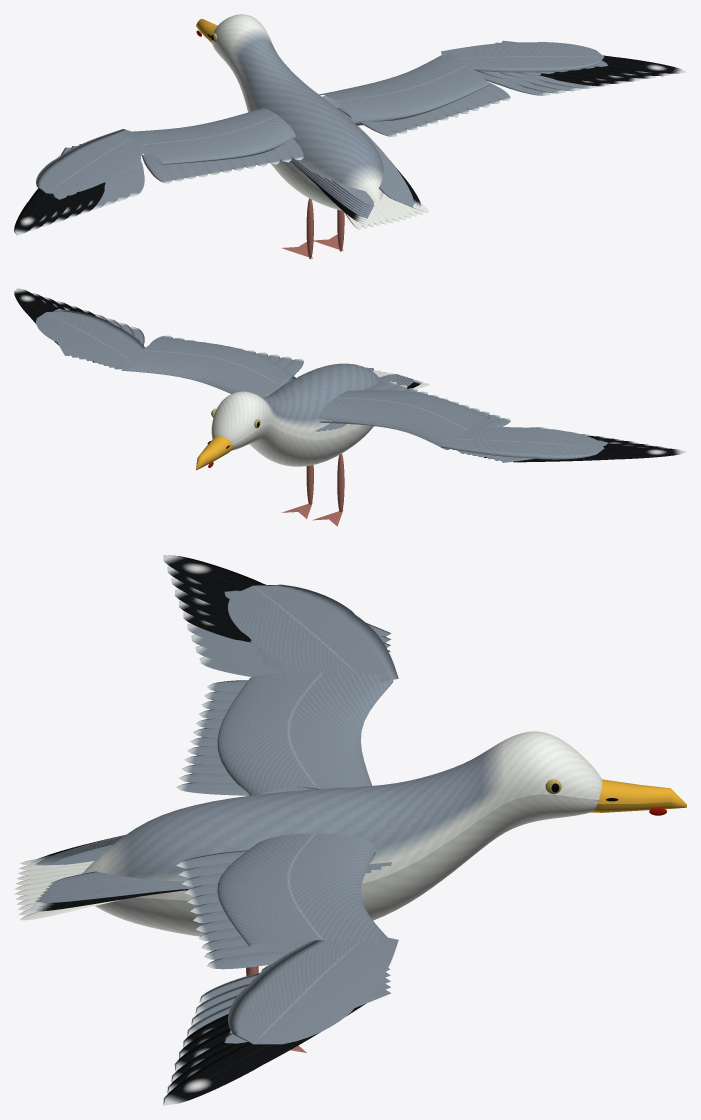
Rendered from coastal_gull.glb.
The picture shows the model from 3 angles, top to bottom: view 1: azimuth 30°, elevation 25°; view 2: azimuth 150°, elevation 25°; view 3: azimuth 270°, elevation 25°; orthographic projection. The views are drawn at different scales.
Visible parts, largest first — view 1: CoastalGullMesh, RightWingMesh, LeftWingMesh, LeftWingTipMesh, RightWingTipMesh, FoldedWingsMesh, LegsMesh; view 2: CoastalGullMesh, LeftWingMesh, RightWingMesh, LeftWingTipMesh, RightWingTipMesh, LegsMesh, FoldedWingsMesh; view 3: CoastalGullMesh, LeftWingMesh, RightWingMesh, RightWingTipMesh, LeftWingTipMesh, FoldedWingsMesh.
Boxes of the visible parts, bbox=[...] form: CoastalGullMesh: bbox=[196, 14, 428, 229]; RightWingMesh: bbox=[319, 54, 510, 136]; LeftWingMesh: bbox=[124, 108, 303, 183]; LeftWingTipMesh: bbox=[14, 129, 146, 235]; RightWingTipMesh: bbox=[441, 40, 686, 95]; FoldedWingsMesh: bbox=[290, 125, 421, 224]; LegsMesh: bbox=[282, 198, 344, 259]; CoastalGullMesh: bbox=[196, 363, 428, 470]; LeftWingMesh: bbox=[318, 381, 510, 449]; RightWingMesh: bbox=[121, 335, 303, 397]; LeftWingTipMesh: bbox=[441, 427, 686, 462]; RightWingTipMesh: bbox=[14, 288, 144, 369]; LegsMesh: bbox=[281, 453, 344, 526]; FoldedWingsMesh: bbox=[315, 367, 421, 431]; CoastalGullMesh: bbox=[14, 731, 686, 936]; LeftWingMesh: bbox=[176, 672, 393, 795]; RightWingMesh: bbox=[176, 833, 387, 969]; RightWingTipMesh: bbox=[163, 935, 398, 1105]; LeftWingTipMesh: bbox=[163, 555, 398, 682]; FoldedWingsMesh: bbox=[27, 835, 391, 911].
Size of the model in its own units: 1.44 by 0.3665 by 0.7464.
Materials: 1 (1 with a texture image).
